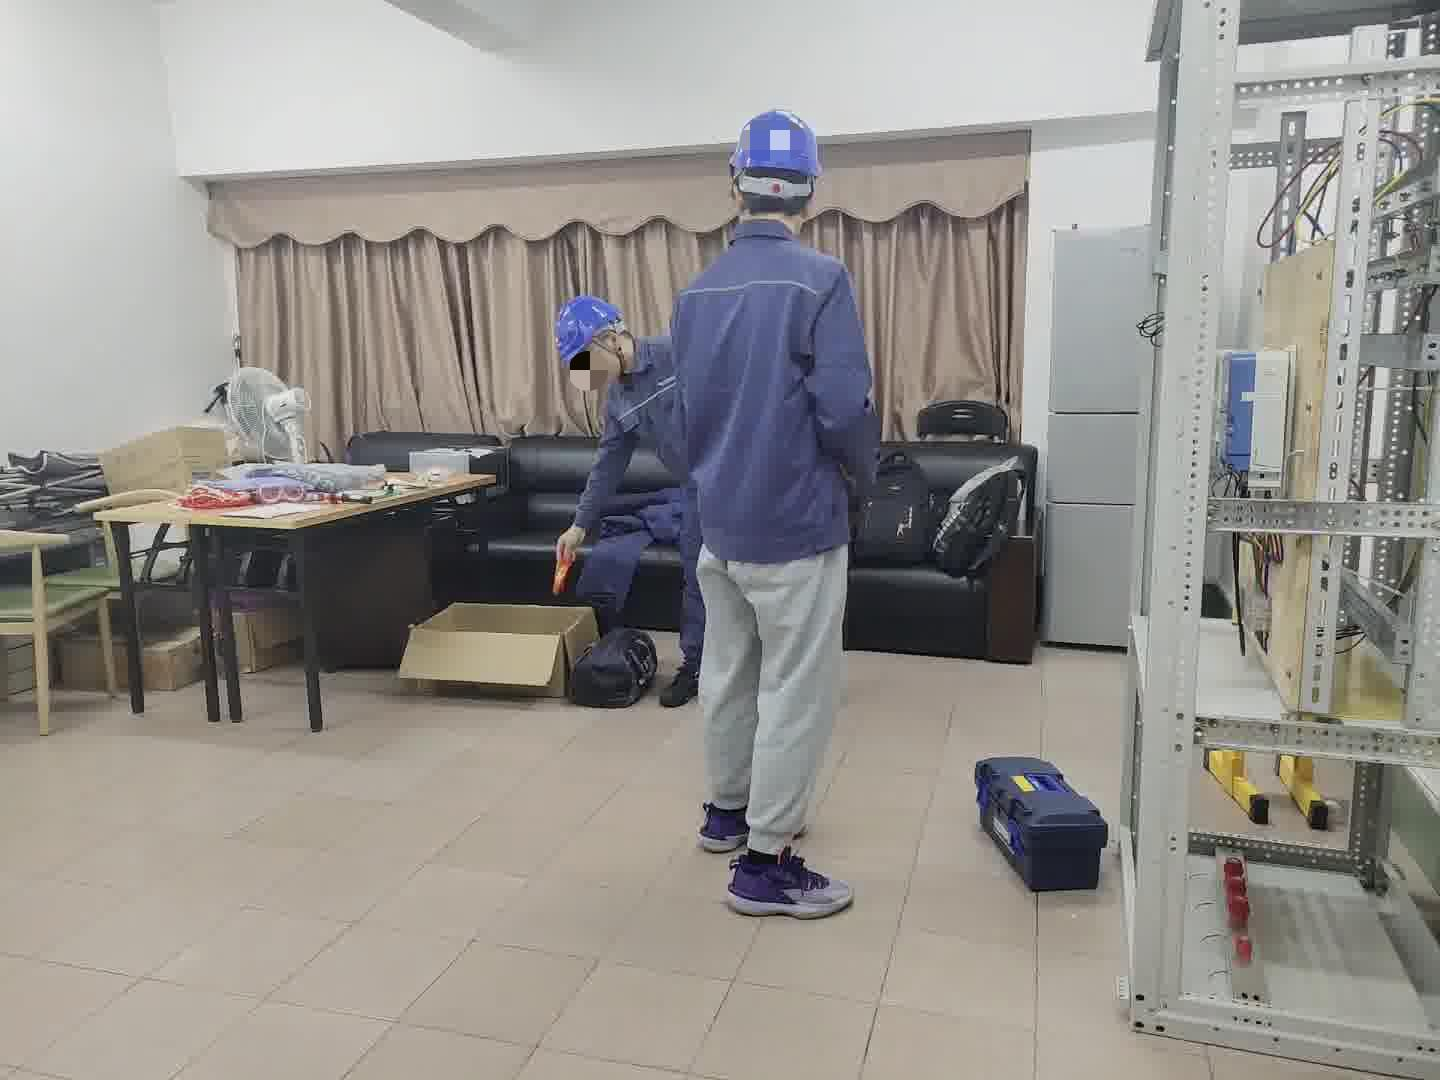halt: (729, 111, 828, 223), (556, 297, 632, 379)
inear: (594, 327, 633, 377)
